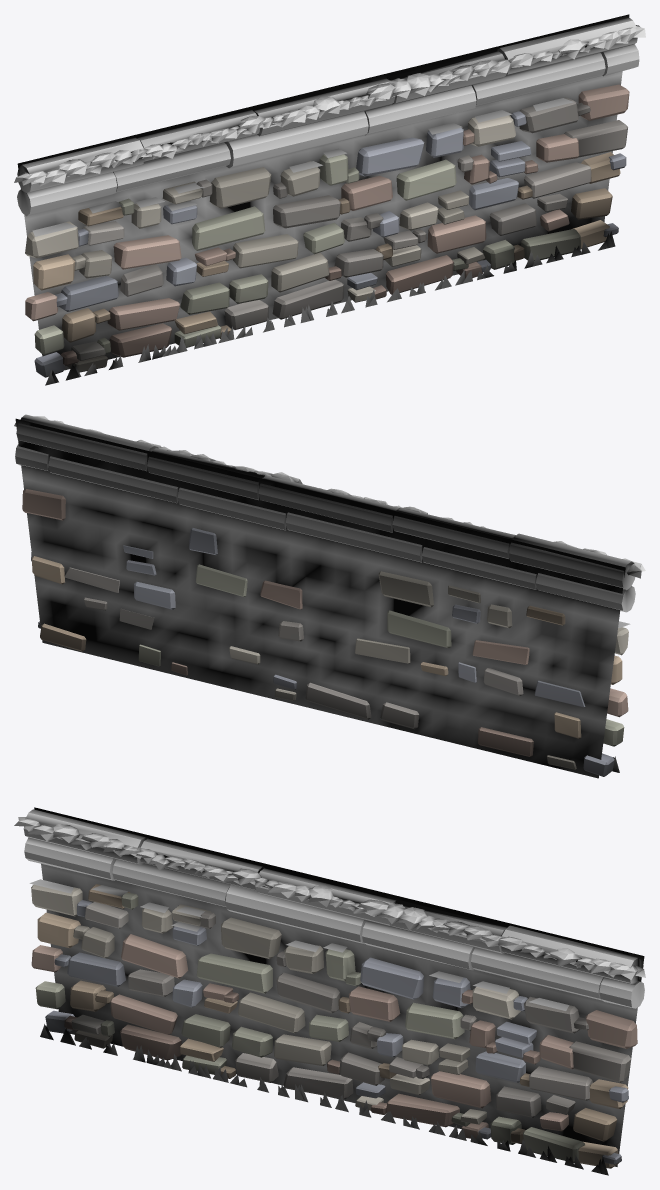
File: meadow_front.glb
3 views of the same model, one above another, from view 1: azimuth 30°, elevation 25°; view 2: azimuth 150°, elevation 25°; view 3: azimuth 330°, elevation 25° (orthographic).
Parts seen in each view (by area): view 1: Stones_fieldstone, Backing_soil, Logs_log, Grass_grass, Grass_moss, Foot_grass, Moss_wall_moss, Logs_log_end; view 2: Backing_soil, Logs_log, Stones_fieldstone, Grass_grass, Logs_log_end; view 3: Stones_fieldstone, Backing_soil, Logs_log, Grass_grass, Grass_moss, Foot_grass, Moss_wall_moss, Logs_log_end.
Part boxes in pixels (x1,y1,x2,y2): Stones_fieldstone: [25, 84, 629, 377]; Backing_soil: [17, 14, 629, 370]; Logs_log: [22, 17, 639, 216]; Grass_grass: [16, 25, 644, 178]; Grass_moss: [14, 26, 645, 186]; Foot_grass: [45, 231, 615, 385]; Moss_wall_moss: [32, 98, 573, 236]; Logs_log_end: [17, 48, 607, 216]; Backing_soil: [15, 418, 625, 778]; Logs_log: [15, 414, 630, 612]; Stones_fieldstone: [22, 489, 628, 776]; Grass_grass: [34, 416, 641, 572]; Logs_log_end: [47, 446, 635, 612]; Stones_fieldstone: [31, 884, 637, 1168]; Backing_soil: [34, 807, 644, 1166]; Logs_log: [23, 809, 639, 1008]; Grass_grass: [18, 817, 643, 971]; Grass_moss: [14, 817, 645, 979]; Foot_grass: [40, 1024, 608, 1175]; Moss_wall_moss: [29, 879, 569, 1010]; Logs_log_end: [109, 837, 644, 1008].
Size of the model in its own units: 22.5 by 7.47 by 1.22.
